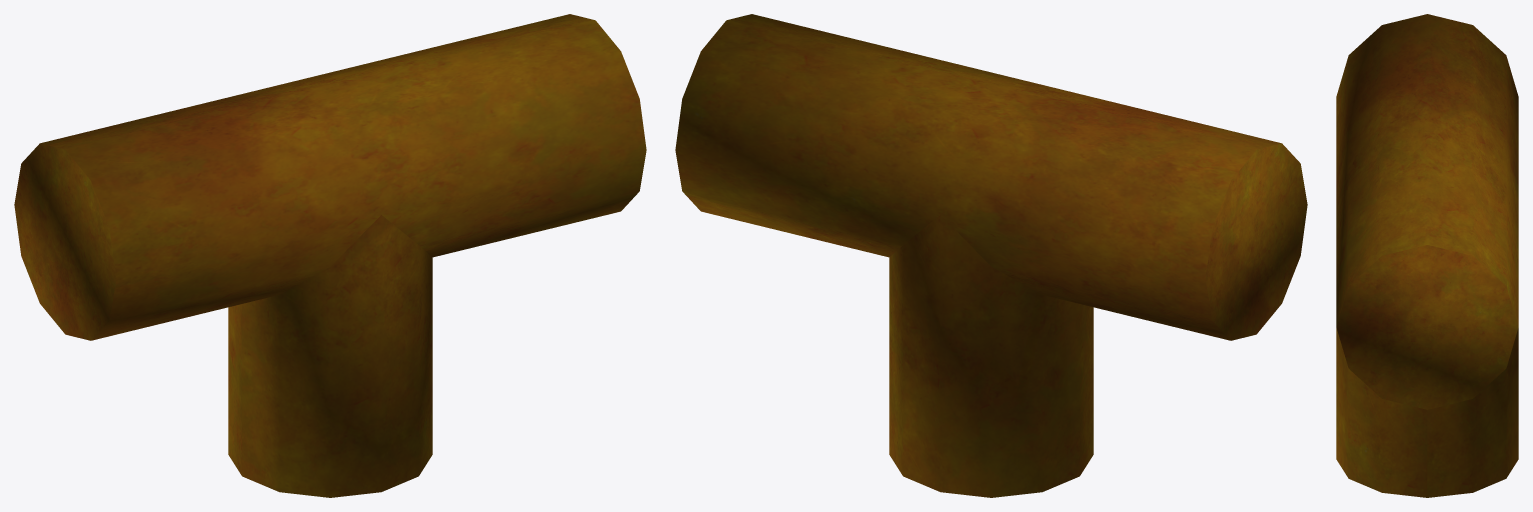
Rendered from Pipe T Small.fbx.
3 views of the same model, side by side, from view 1: azimuth 30°, elevation 25°; view 2: azimuth 150°, elevation 25°; view 3: azimuth 270°, elevation 25° (orthographic). The views are drawn at different scales.
Visible parts, largest first — view 1: Pipe T; view 2: Pipe T; view 3: Pipe T.
Boxes of the visible parts, x1=… form: Pipe T: x1=14, y1=14, x2=646, y2=497; Pipe T: x1=675, y1=14, x2=1307, y2=497; Pipe T: x1=1336, y1=14, x2=1518, y2=497.
Bounding box in the file's own units: 19.84 × 13.22 × 6.61.
